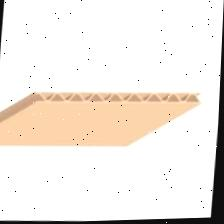cardboard: (0, 63, 201, 167)
